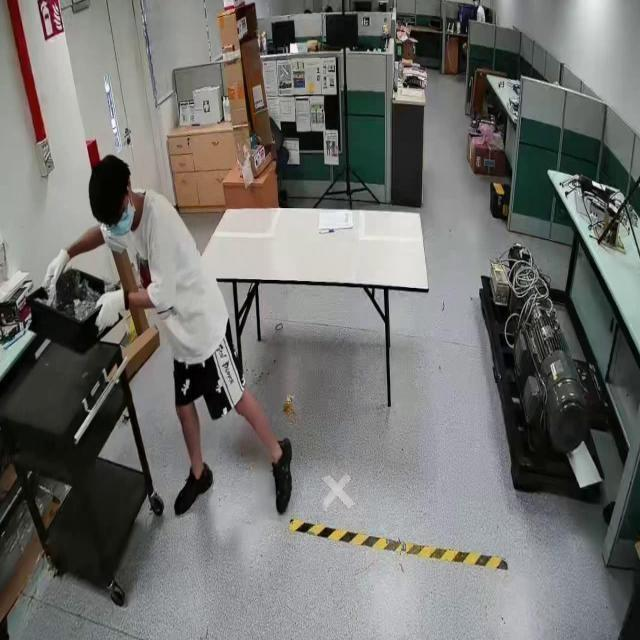box: (27, 267, 125, 355), (236, 3, 273, 147), (222, 60, 249, 127), (217, 10, 242, 62), (192, 87, 223, 127), (284, 139, 300, 166)
